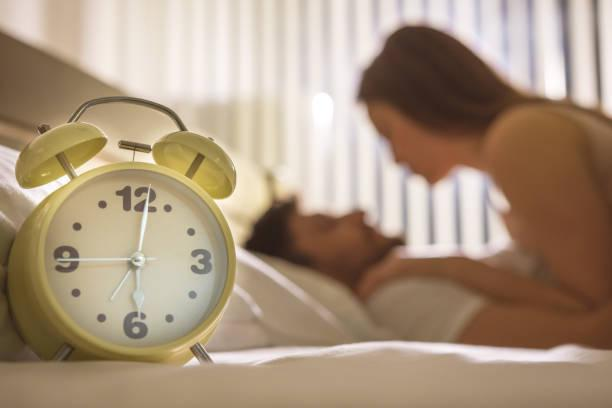clock: (3, 87, 249, 374)
